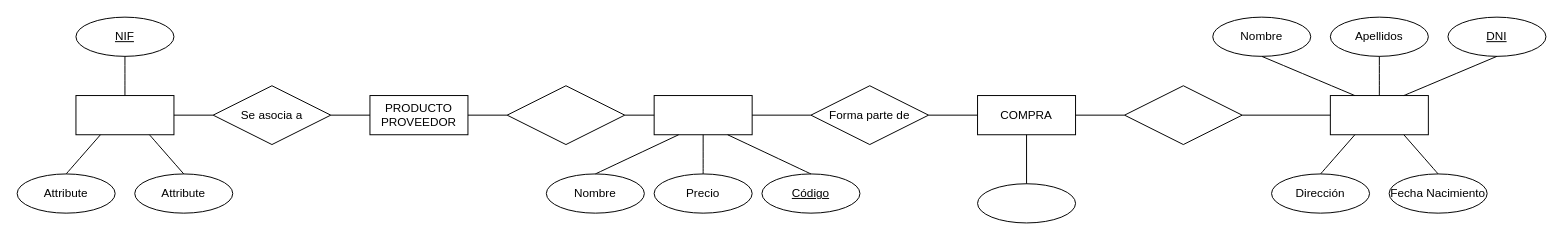
The diagram is 1563 pixels wide and 240 high, and some of its shapes have lost their labels. Here are the shapes that lost their labels. From the top down, the centre of each, then its label:
point (124, 115): PROVEEDOR
point (565, 115): Contiene
point (702, 115): PRODUCTO
point (1183, 115): Realizada por
point (1378, 115): CLIENTE
point (1026, 203): Nº_Compra
